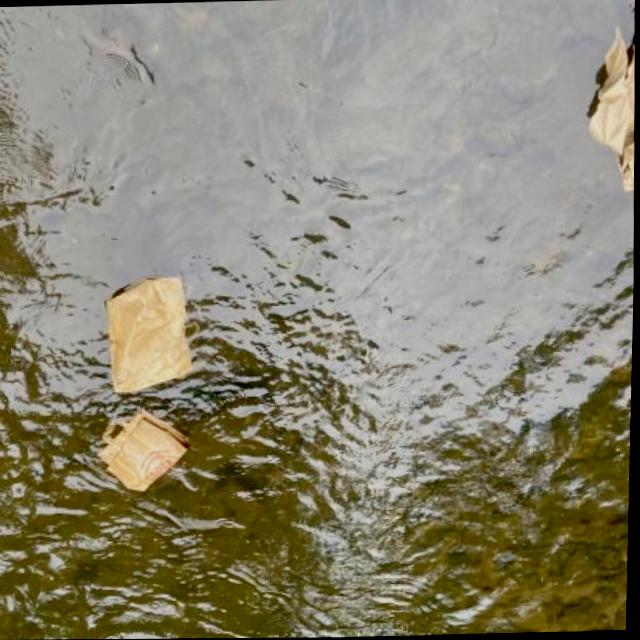Paper: (100, 269, 202, 397), (579, 33, 637, 202), (94, 405, 195, 497)
